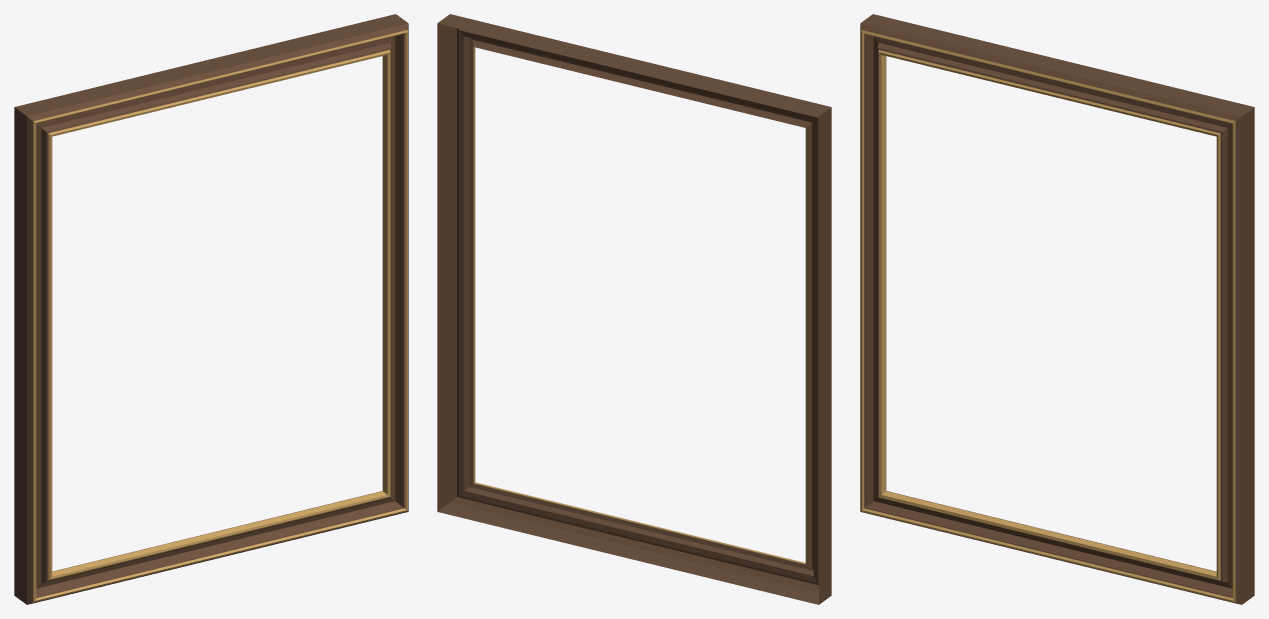
Rendered from gallery-molding.glb.
3 views of the same model, side by side, from view 1: azimuth 30°, elevation 25°; view 2: azimuth 150°, elevation 25°; view 3: azimuth 330°, elevation 25° (orthographic).
Visible parts, largest first — view 1: Mitred molding; view 2: Mitred molding; view 3: Mitred molding.
Boxes of the visible parts, box(x1,y1,x2,y2) form: Mitred molding: box(14, 14, 408, 604); Mitred molding: box(437, 14, 831, 604); Mitred molding: box(860, 14, 1254, 604).
Size of the model in its own units: 2.24 by 2.74 by 0.164.
